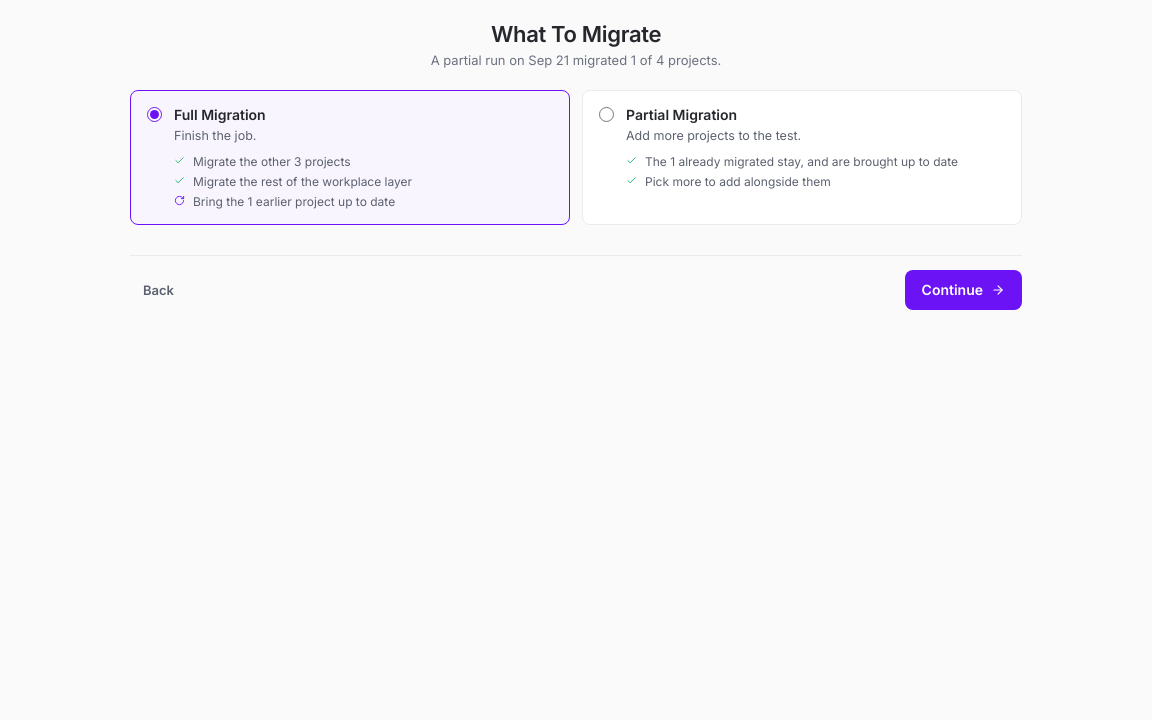
Test case: ScopePage › after an earlier partial › keeps the earlier project ticked and locked
Click the radio button labelled "Partial Migration" at (606, 114), box [599,107,614,122]
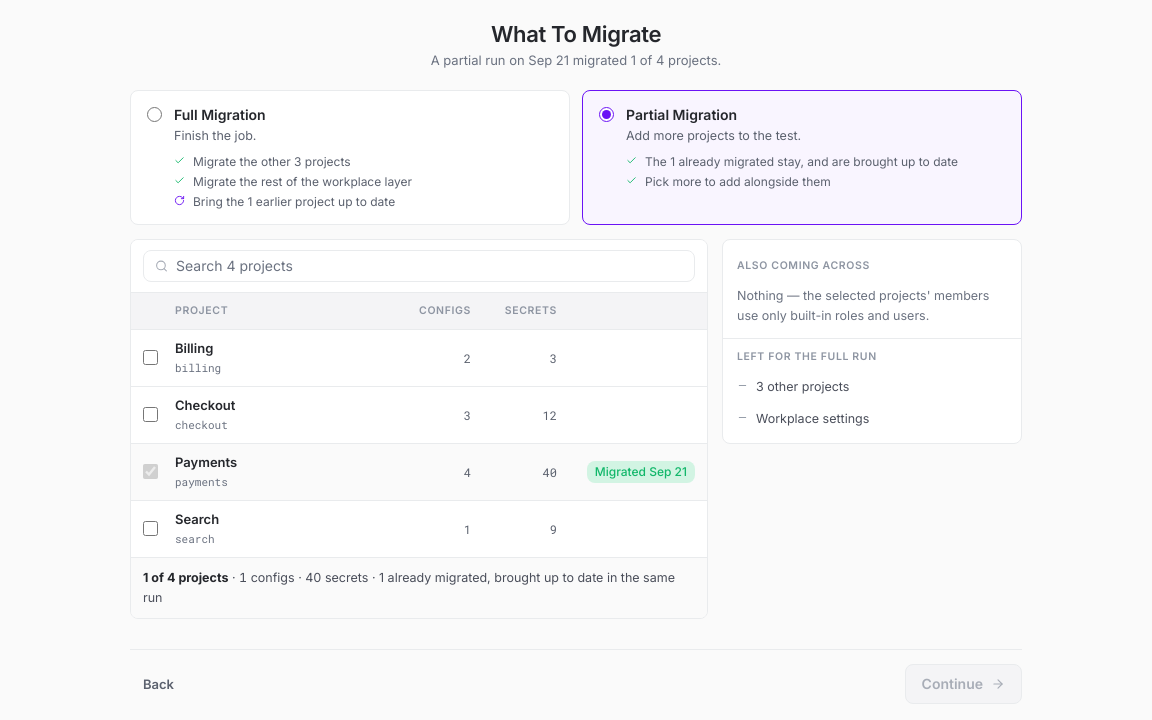
Now the checkbox labelled "Payments" is checked, box [143,464,158,479]
Now the checkbox labelled "Payments" is disabled, box [143,464,158,479]
Now the text "Migrated Sep 21" is shown, box [587,461,695,483]
